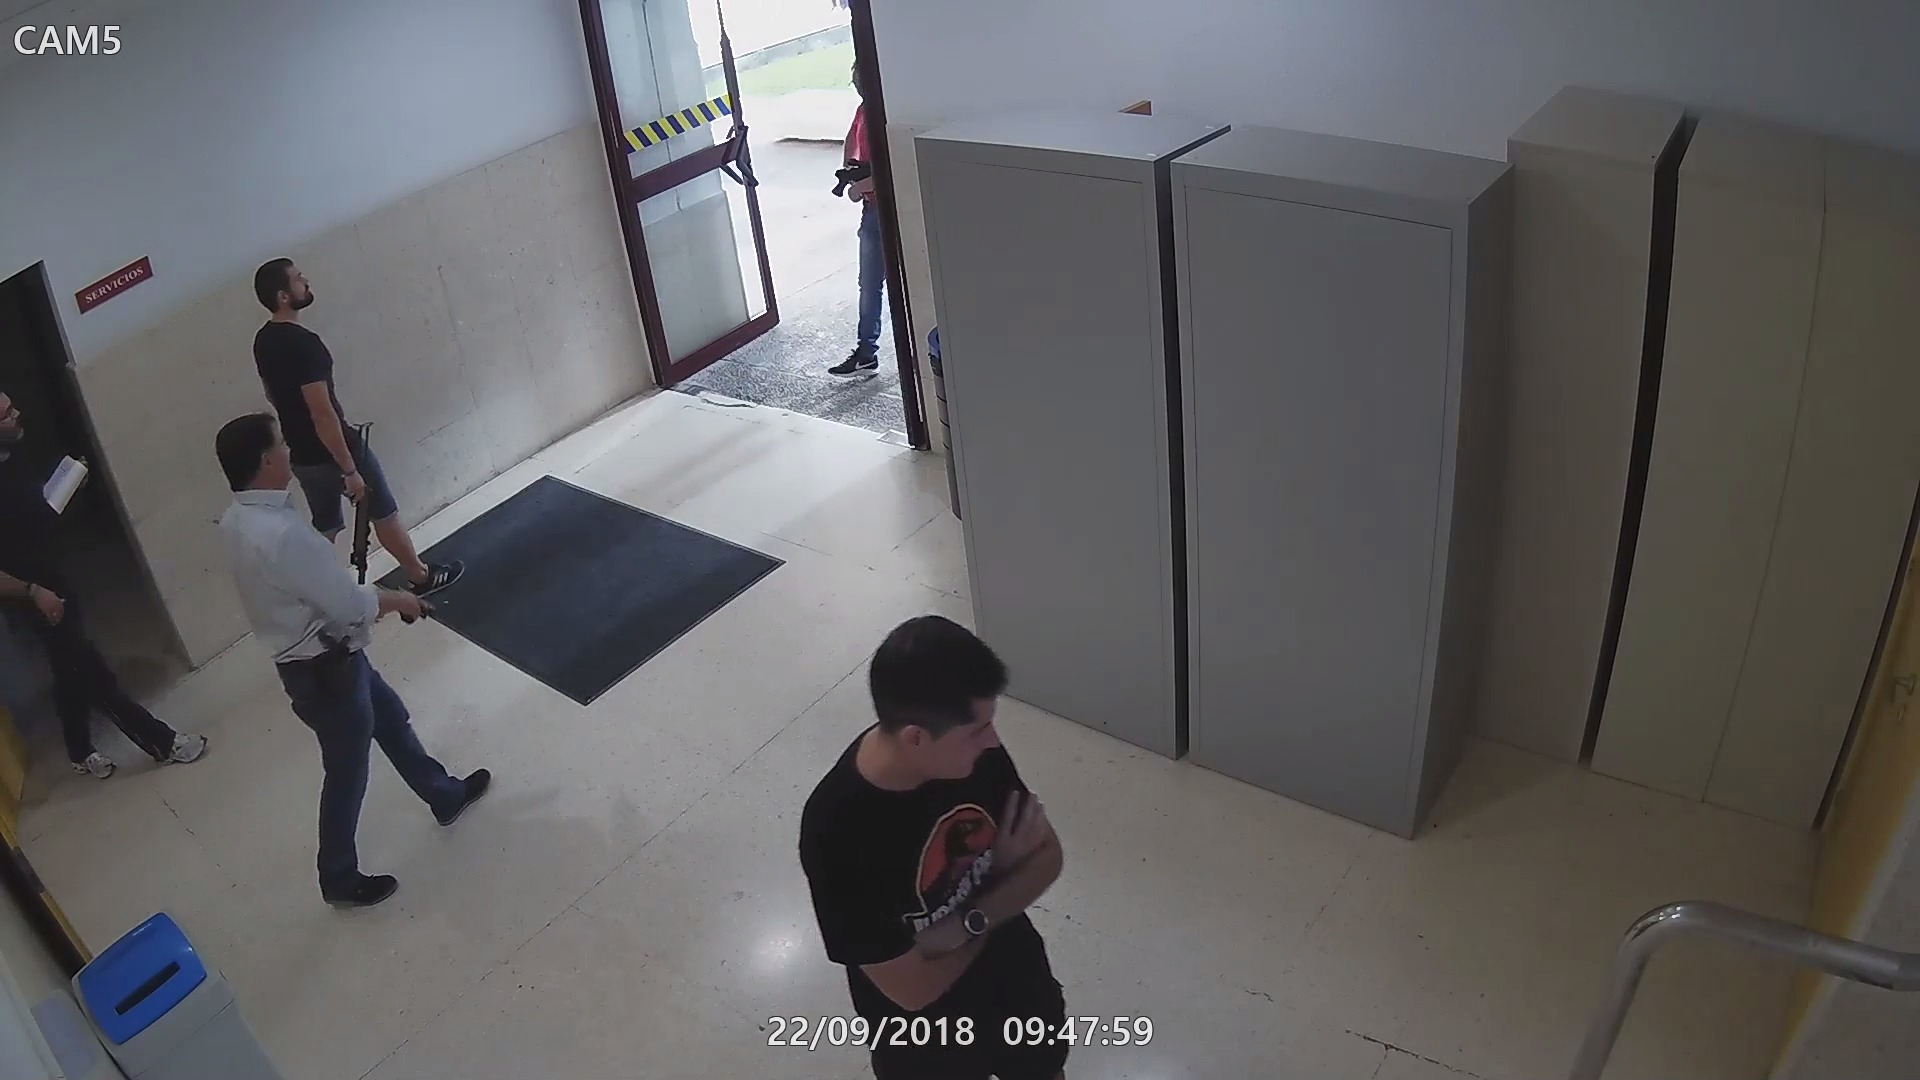Handgun: (394, 588, 435, 630)
Short_rifle: (349, 462, 375, 592), (831, 152, 872, 203)
